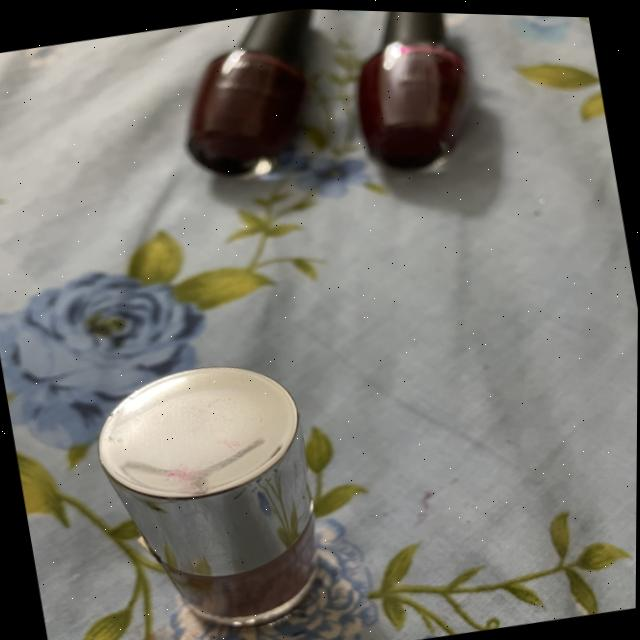nail polish: (63, 322, 355, 640), (137, 3, 374, 196), (314, 7, 492, 184)
